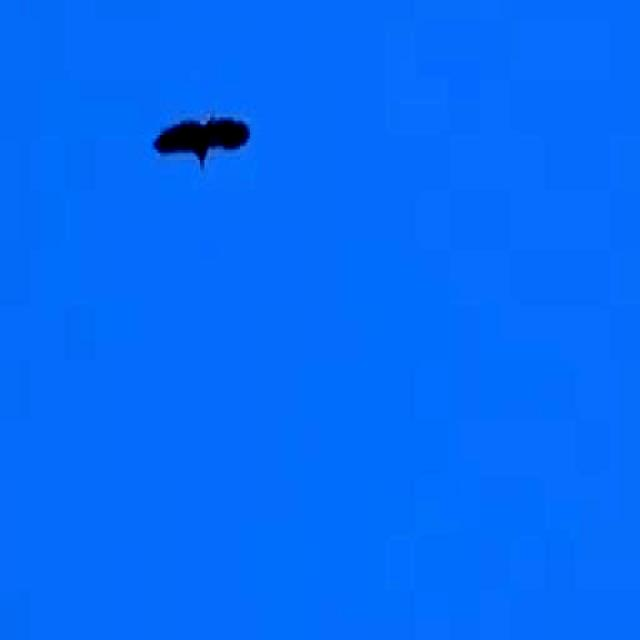airplane: (148, 95, 260, 204)
